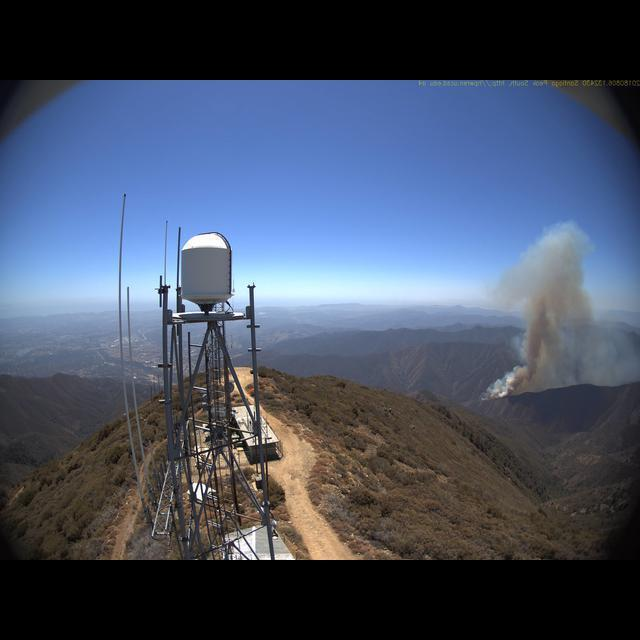Smoke: (486, 222, 637, 405)
